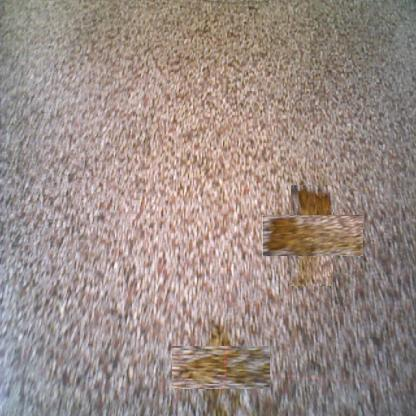liquid: (277, 200, 348, 271), (186, 332, 257, 402)
